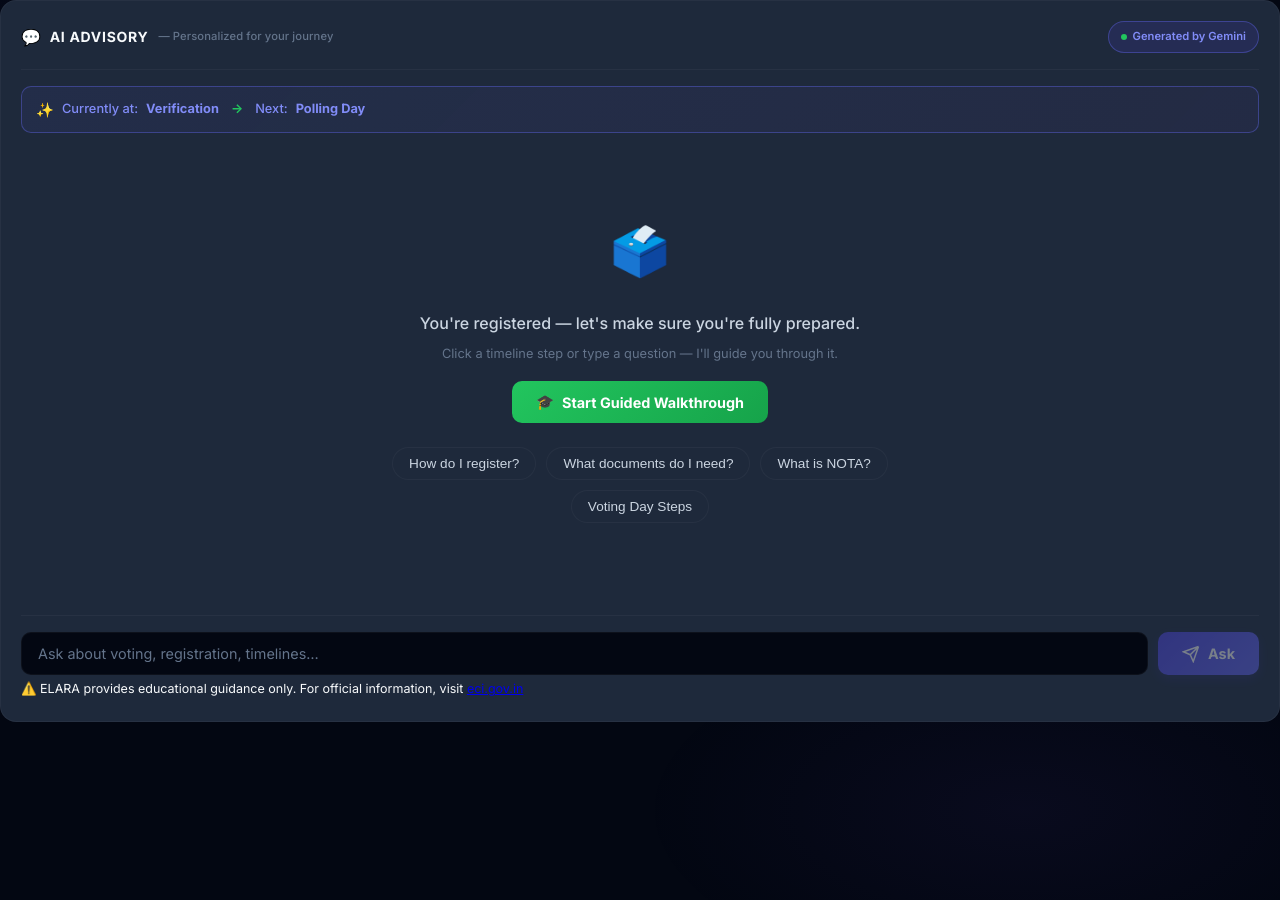
Test: ChatPanel › displays trust badges from AI response
Type "Next steps" into the field named "Type your question here" at (584, 654), box x1=21 y1=632 x2=1148 y2=675
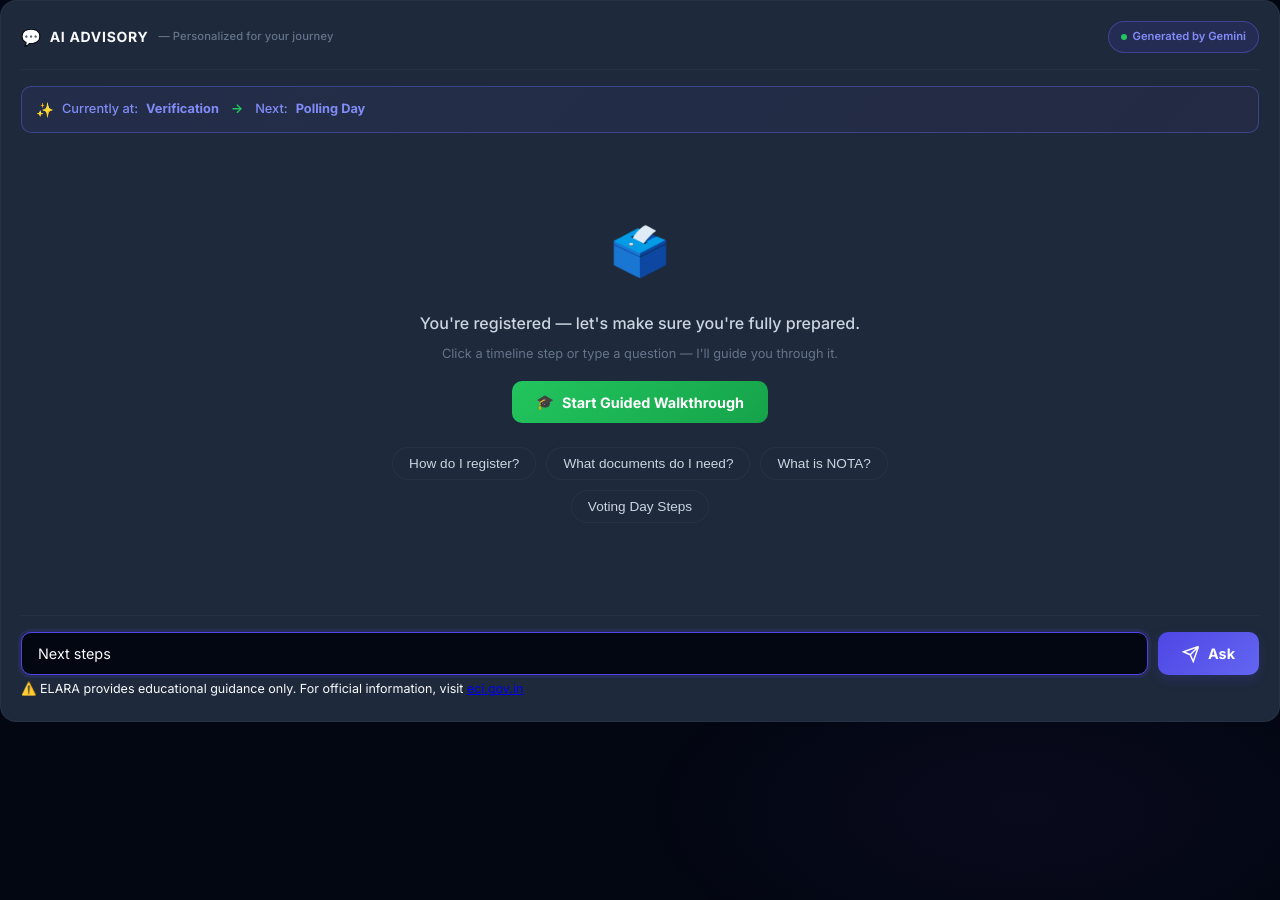
Click the button with aria-label "Send question to ELARA" at (1208, 654), box x1=1158 y1=632 x2=1259 y2=675
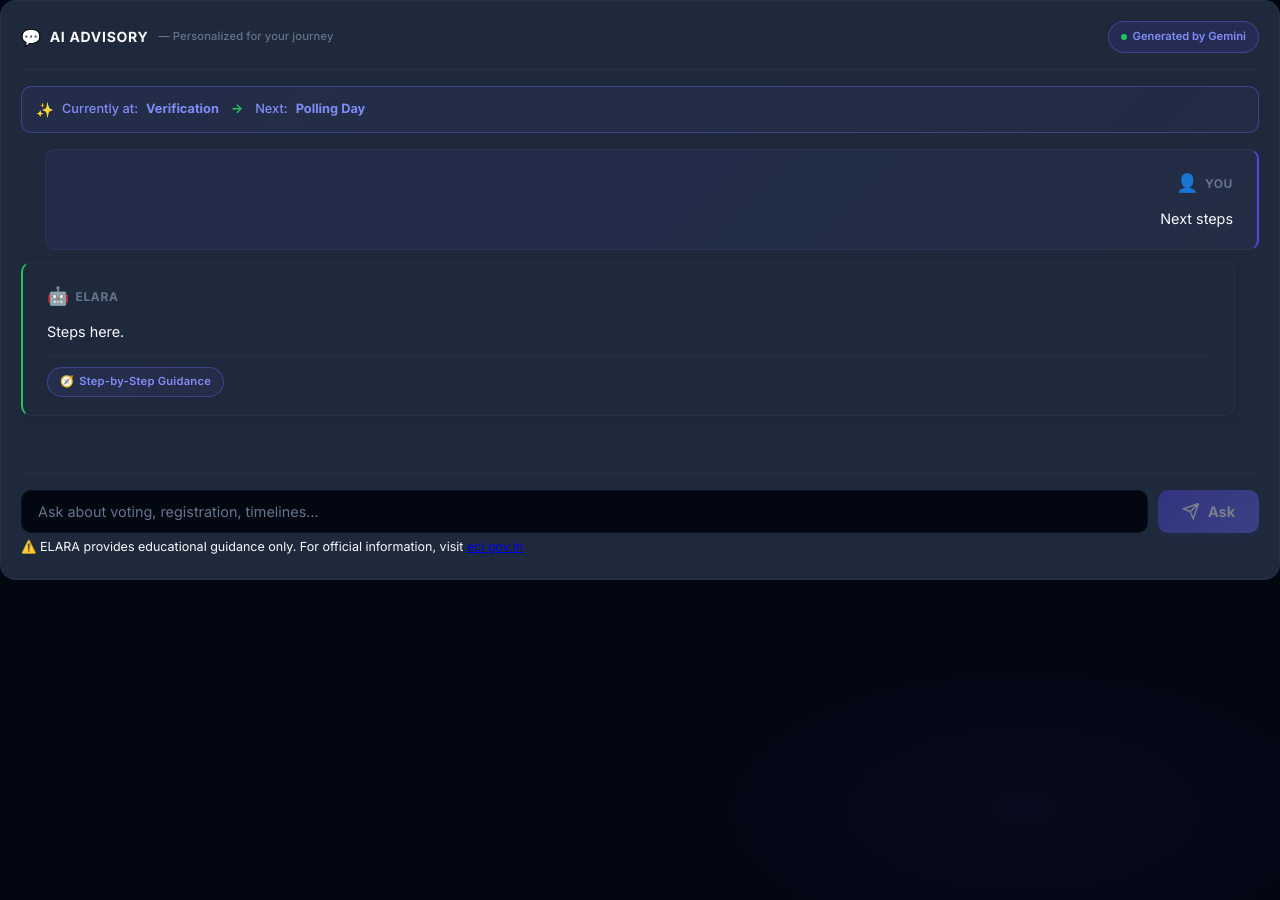
Expected: the text "Step-by-Step Guidance" is shown, x1=79 y1=374 x2=211 y2=388
